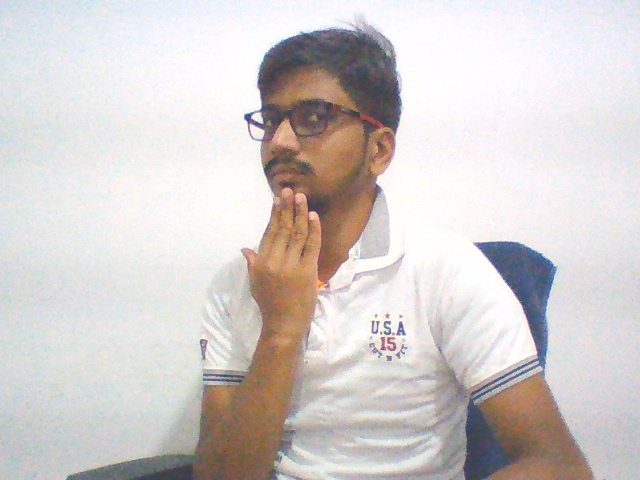mango: (234, 182, 328, 353)
